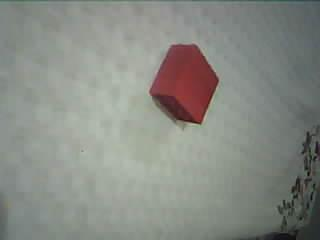lego: (148, 42, 220, 126)
